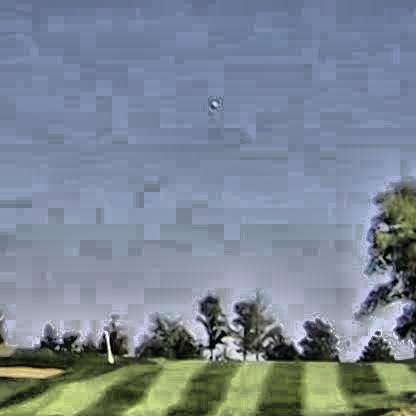golfball: (206, 99, 214, 106)
